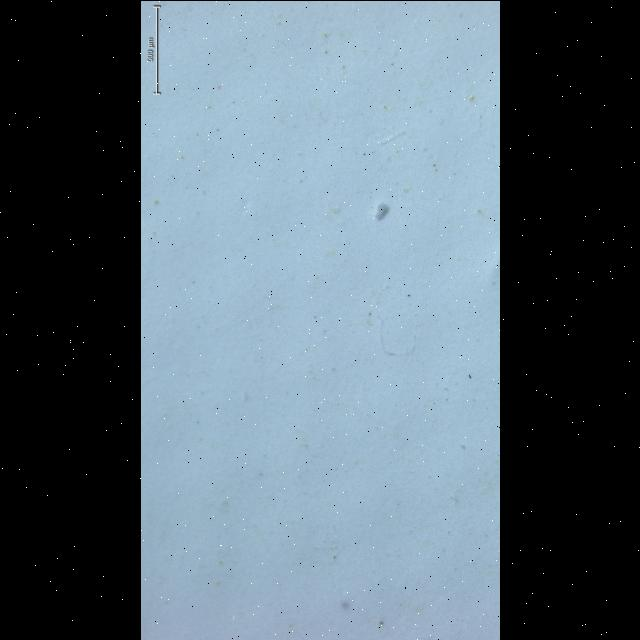Fibre: (380, 130, 405, 144)
Fragment: (375, 202, 388, 219)
